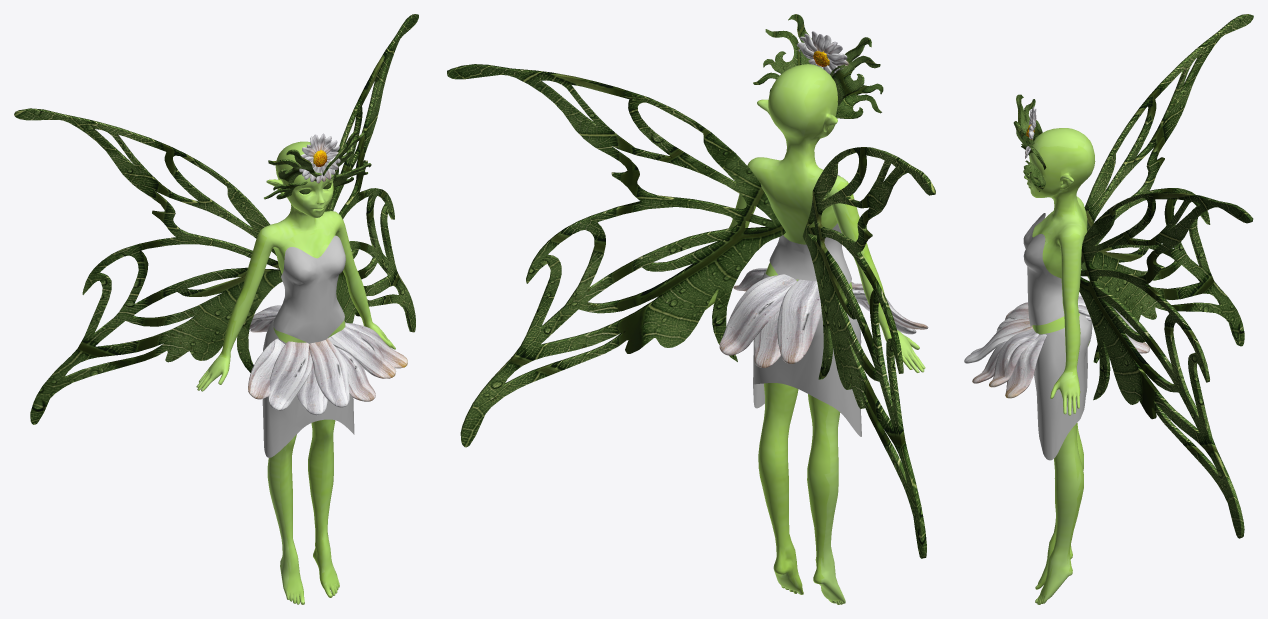
The model's file is fada.2.0.obj.
3 views of the same model, side by side, from view 1: azimuth 30°, elevation 25°; view 2: azimuth 150°, elevation 25°; view 3: azimuth 270°, elevation 25° (orthographic). The views are drawn at different scales.
Parts seen in each view (by area): view 1: asas, corpo, saia2, top, saia, headpiece, flower; view 2: asas, corpo, saia2, saia, headpiece, top, flower; view 3: asas, corpo, saia2, saia, top, headpiece.
Part boxes in pixels (bbox=[...]): asas: bbox=[14, 14, 418, 424]; corpo: bbox=[196, 141, 395, 604]; saia2: bbox=[248, 305, 407, 415]; top: bbox=[273, 235, 345, 343]; saia: bbox=[262, 318, 354, 457]; headpiece: bbox=[264, 131, 371, 199]; flower: bbox=[298, 133, 340, 183]; asas: bbox=[447, 64, 935, 558]; corpo: bbox=[705, 64, 925, 604]; saia2: bbox=[719, 268, 928, 367]; saia: bbox=[753, 270, 861, 436]; headpiece: bbox=[753, 14, 883, 118]; top: bbox=[769, 175, 851, 283]; flower: bbox=[797, 31, 848, 74]; asas: bbox=[1079, 14, 1253, 538]; corpo: bbox=[1024, 128, 1095, 604]; saia2: bbox=[964, 295, 1149, 398]; saia: bbox=[1034, 314, 1092, 460]; top: bbox=[1023, 213, 1064, 326]; headpiece: bbox=[1013, 94, 1046, 191].
Bounding box in the file's own units: 1.63 × 1.81 × 0.9722.
